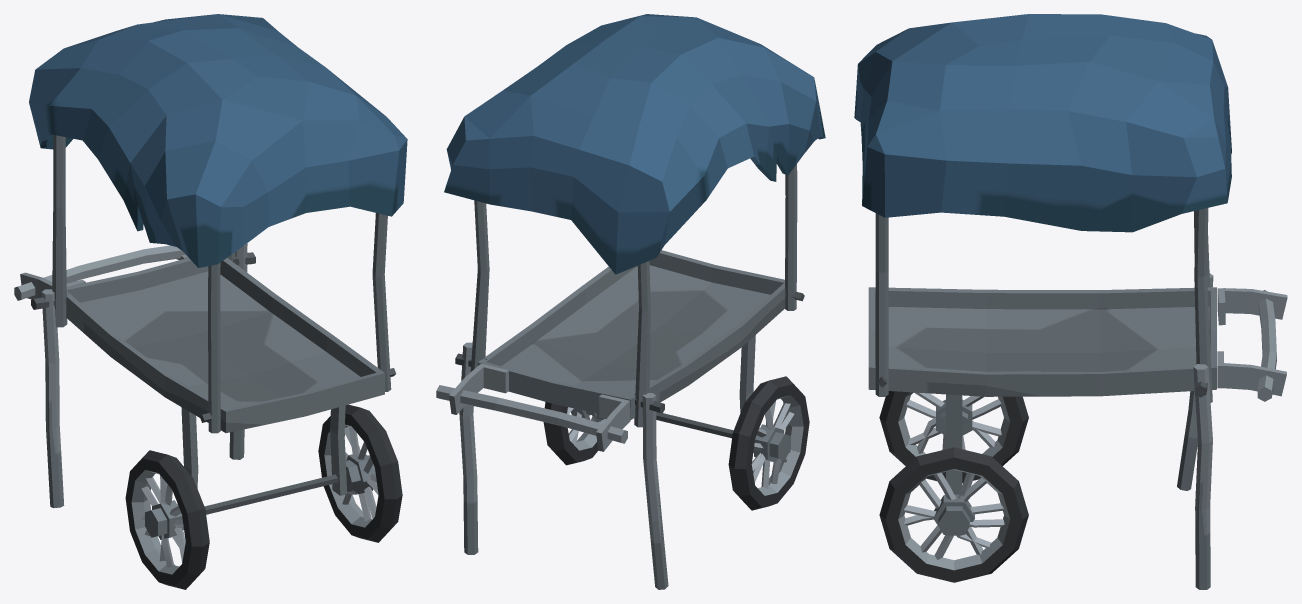
The model's file is SM_Prop_Cart_Metal_01.fbx.
The picture shows the model from 3 angles, left to right: view 1: azimuth 30°, elevation 25°; view 2: azimuth 150°, elevation 25°; view 3: azimuth 270°, elevation 25°; orthographic projection. The views are drawn at different scales.
Visible parts, largest first — view 1: SM_Prop_Cart_Metal_Tarp_01, SM_Prop_Cart_Metal_01, SM_Prop_Cart_Metal_Wheel_r, SM_Prop_Cart_Metal_Wheel_l; view 2: SM_Prop_Cart_Metal_Tarp_01, SM_Prop_Cart_Metal_01, SM_Prop_Cart_Metal_Wheel_r, SM_Prop_Cart_Metal_Wheel_l; view 3: SM_Prop_Cart_Metal_Tarp_01, SM_Prop_Cart_Metal_01, SM_Prop_Cart_Metal_Wheel_l, SM_Prop_Cart_Metal_Wheel_r.
Boxes of the visible parts, x1,y1,x2,y2 form: SM_Prop_Cart_Metal_Tarp_01: (29,14,407,267); SM_Prop_Cart_Metal_01: (14,135,396,514); SM_Prop_Cart_Metal_Wheel_r: (125,450,209,589); SM_Prop_Cart_Metal_Wheel_l: (318,404,402,542); SM_Prop_Cart_Metal_Tarp_01: (444,14,825,274); SM_Prop_Cart_Metal_01: (436,164,804,589); SM_Prop_Cart_Metal_Wheel_r: (728,376,809,510); SM_Prop_Cart_Metal_Wheel_l: (543,402,605,465); SM_Prop_Cart_Metal_Tarp_01: (854,14,1231,232); SM_Prop_Cart_Metal_01: (868,208,1287,589); SM_Prop_Cart_Metal_Wheel_l: (879,447,1028,582); SM_Prop_Cart_Metal_Wheel_r: (879,391,1028,483).
Bounding box in the file's own units: 135 × 256 × 198.
